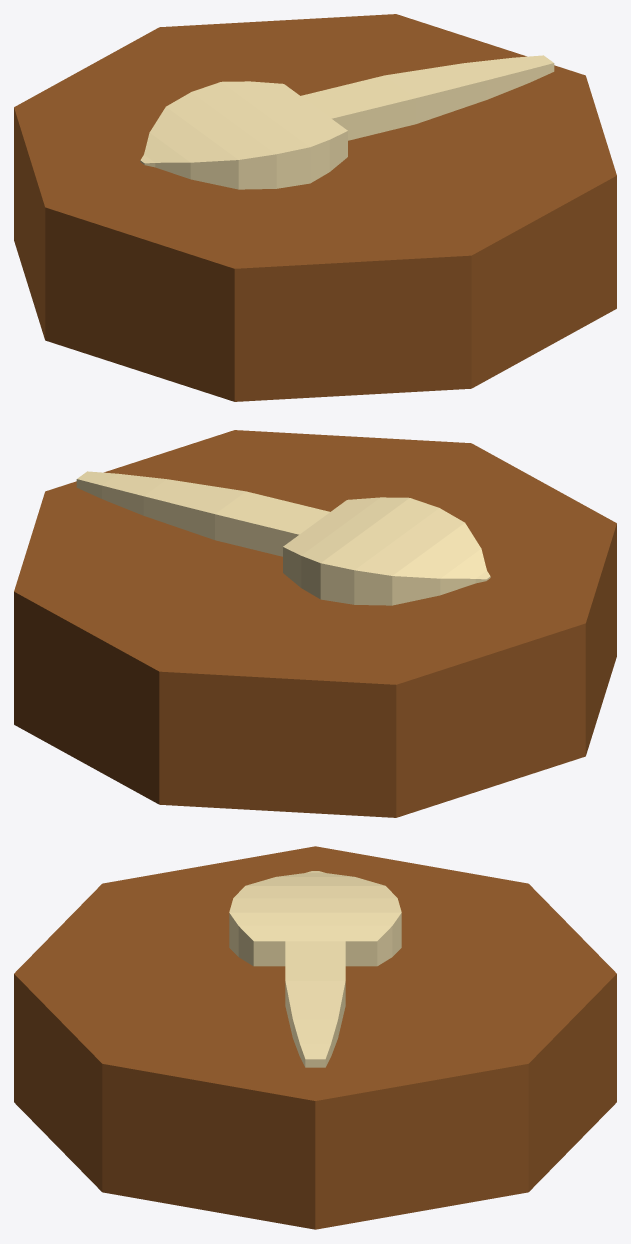
The model's file is Dial.fbx.
3 views of the same model, one above another, from view 1: azimuth 30°, elevation 25°; view 2: azimuth 150°, elevation 25°; view 3: azimuth 270°, elevation 25° (orthographic). The views are drawn at different scales.
Parts seen in each view (by area): view 1: DialBase, Dial; view 2: DialBase, Dial; view 3: DialBase, Dial.
Boxes of the visible parts, left/top/right/bottom form: DialBase: left=14, top=14, right=616, bottom=401; Dial: left=140, top=55, right=554, bottom=189; DialBase: left=14, top=430, right=616, bottom=817; Dial: left=76, top=471, right=490, bottom=605; DialBase: left=14, top=846, right=616, bottom=1229; Dial: left=229, top=871, right=401, bottom=1067.
Size of the model in its own units: 0.1605 by 0.0489 by 0.1605.
